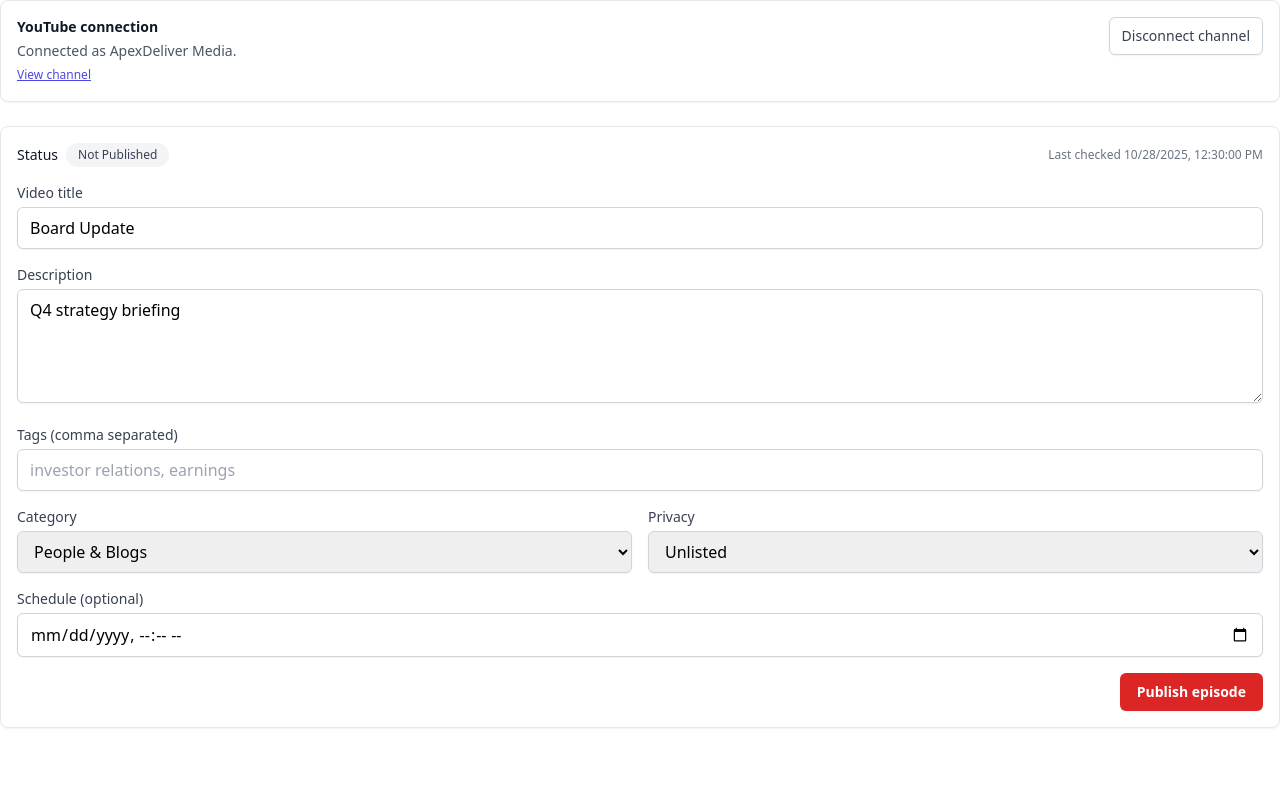
it: YouTubePublisher › handles publish failure path with actionable messaging
The width and height of the screenshot is (1280, 800).
Click the button "Publish episode".
click(1191, 692)  # box x1=1120 y1=673 x2=1263 y2=711
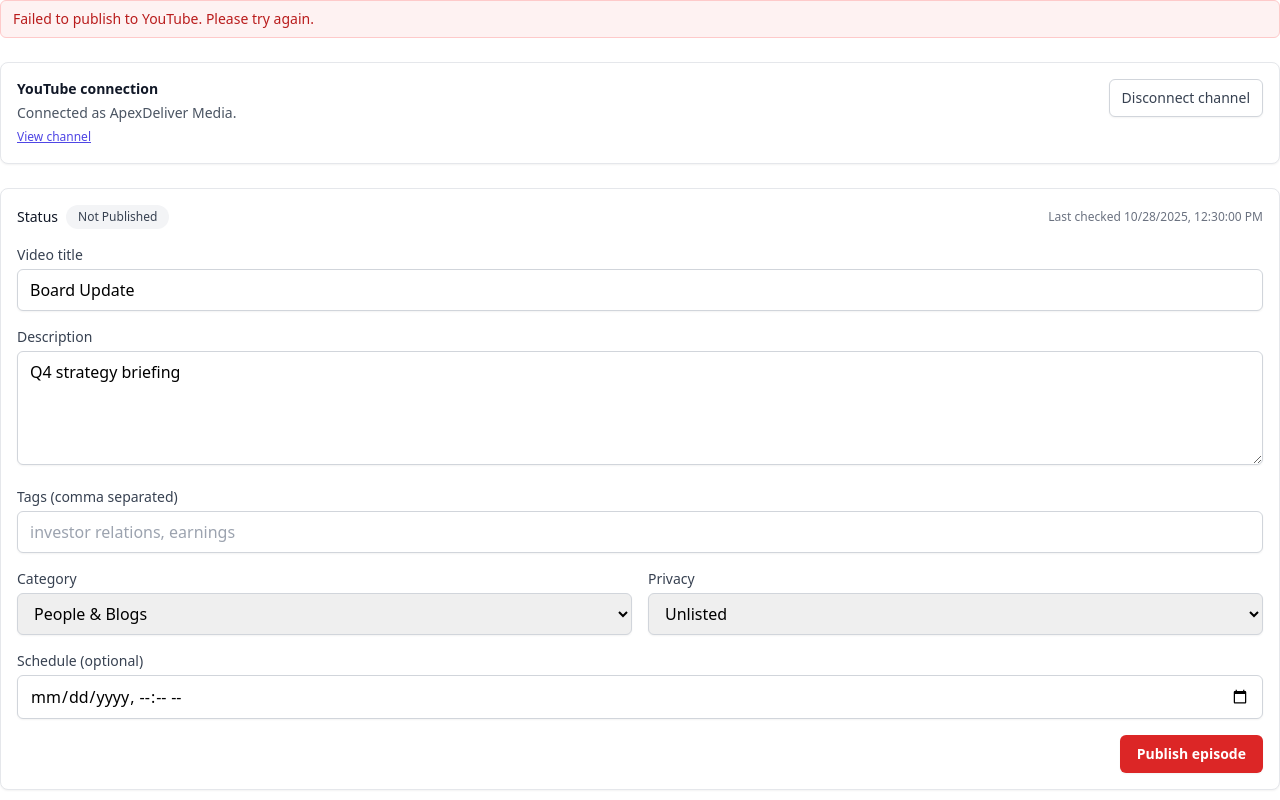
Expected: the message shows "Failed to publish to YouTube", x1=13 y1=9 x2=314 y2=28
